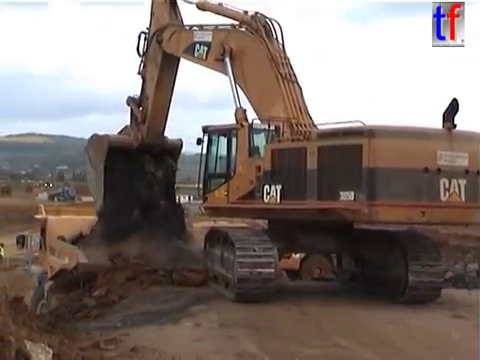excavator: (82, 1, 480, 307)
truck: (13, 203, 198, 332), (275, 213, 425, 288), (189, 217, 271, 287), (20, 177, 37, 195)
